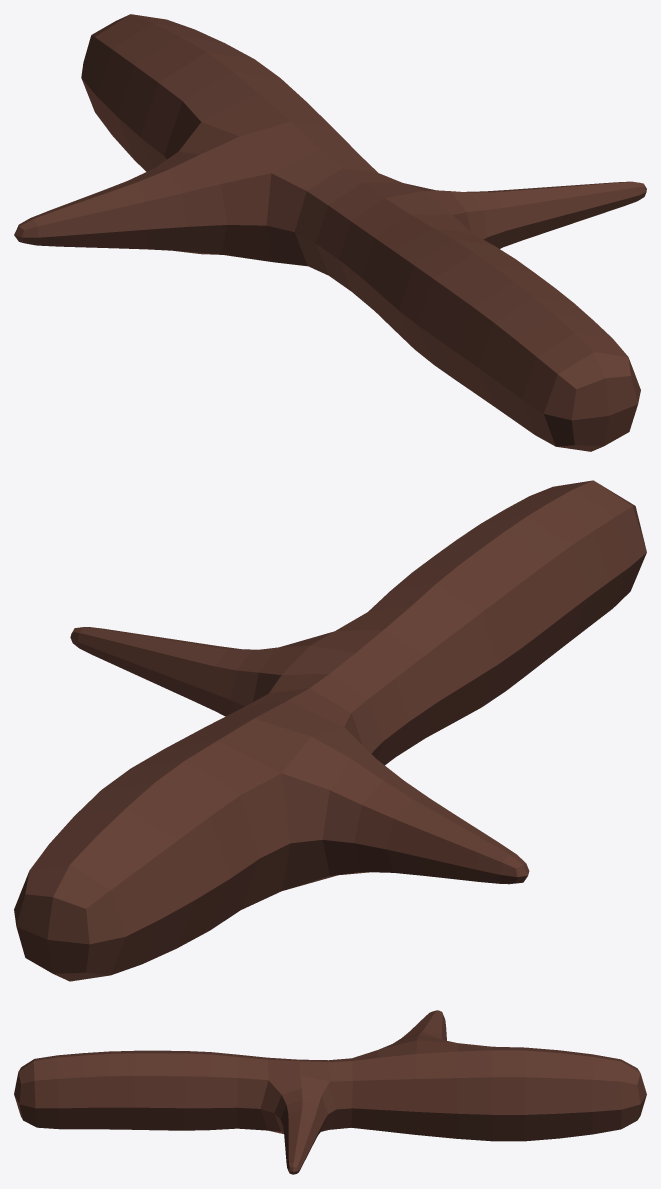
Rendered from Trunk3.fbx.
The picture shows the model from 3 angles, top to bottom: view 1: azimuth 30°, elevation 25°; view 2: azimuth 150°, elevation 25°; view 3: azimuth 270°, elevation 25°; orthographic projection. The views are drawn at different scales.
Parts seen in each view (by area): view 1: Plane.002; view 2: Plane.002; view 3: Plane.002.
Boxes of the visible parts, x1,y1,x2,y2 form: Plane.002: [14, 14, 646, 451]; Plane.002: [14, 480, 646, 981]; Plane.002: [14, 1010, 646, 1174].
Size of the model in its own units: 296 by 75.79 by 493.
